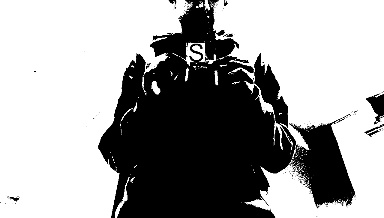S: (186, 42, 203, 63)
